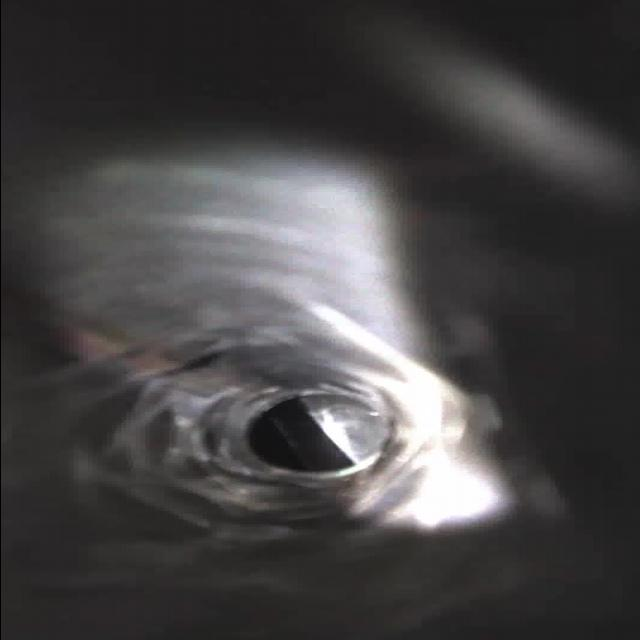crack: (94, 378, 230, 458), (108, 469, 230, 534), (254, 484, 360, 546)
